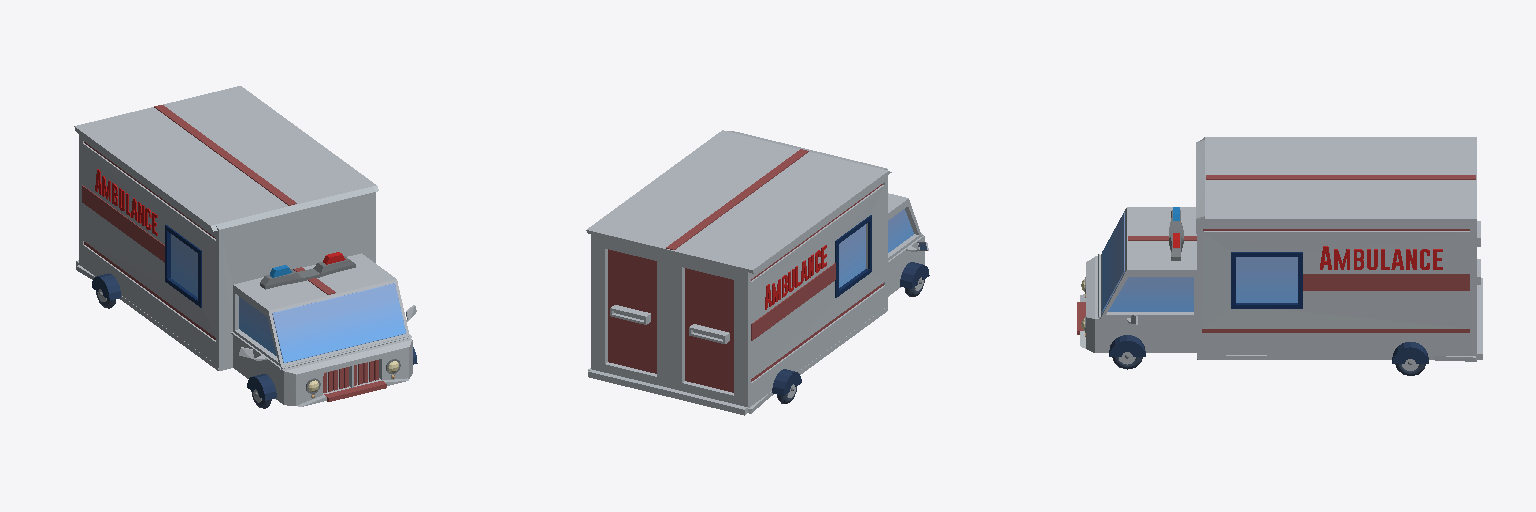
3 renders of one model, left to right at view 1: azimuth 30°, elevation 25°; view 2: azimuth 150°, elevation 25°; view 3: azimuth 270°, elevation 25°, orthographic.
Bounding box in the file's own units: 151 × 124 × 291.
1 materials, 1 textured.